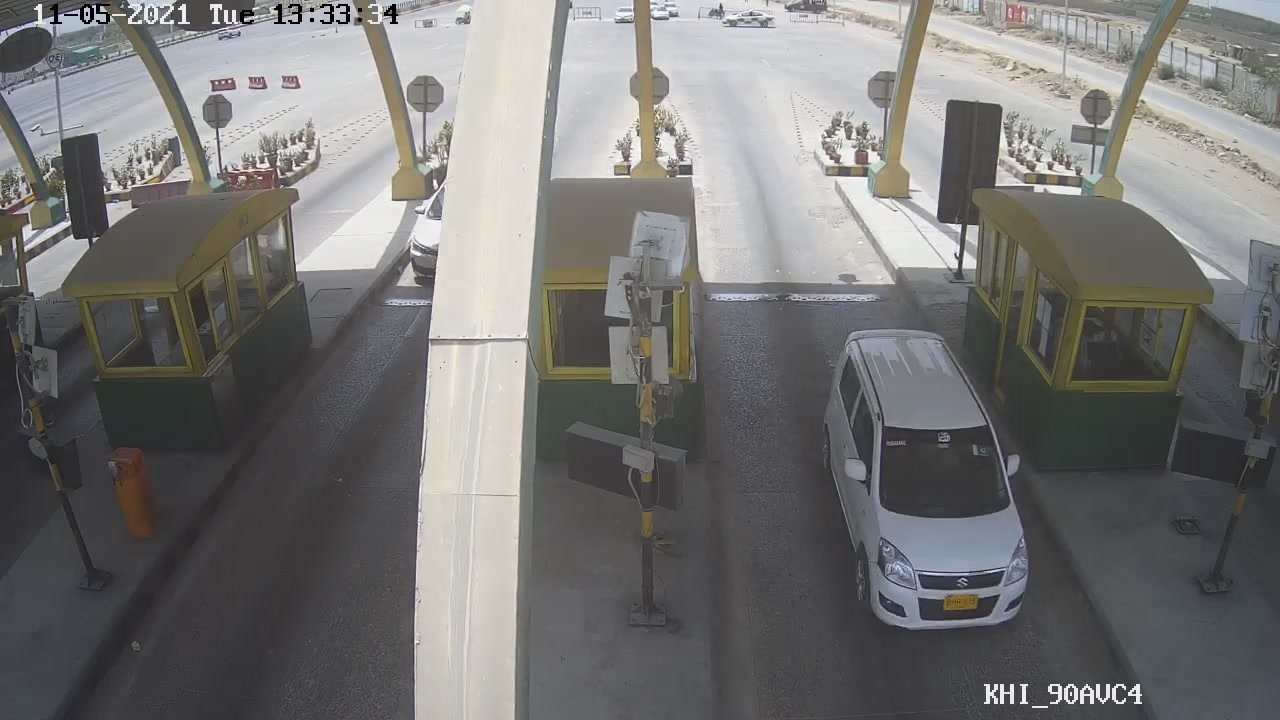F1: (816, 330, 1037, 634)
